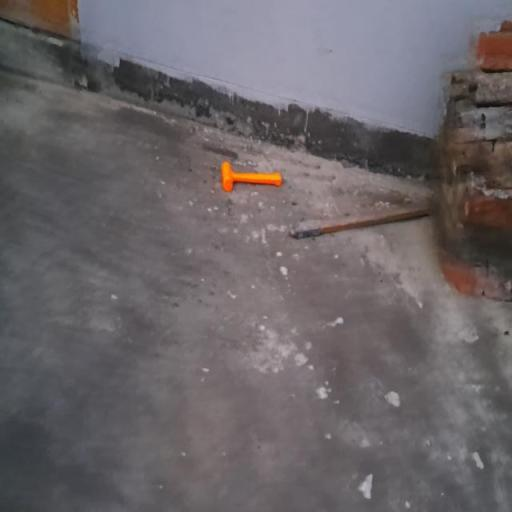mallet: (222, 162, 282, 192)
